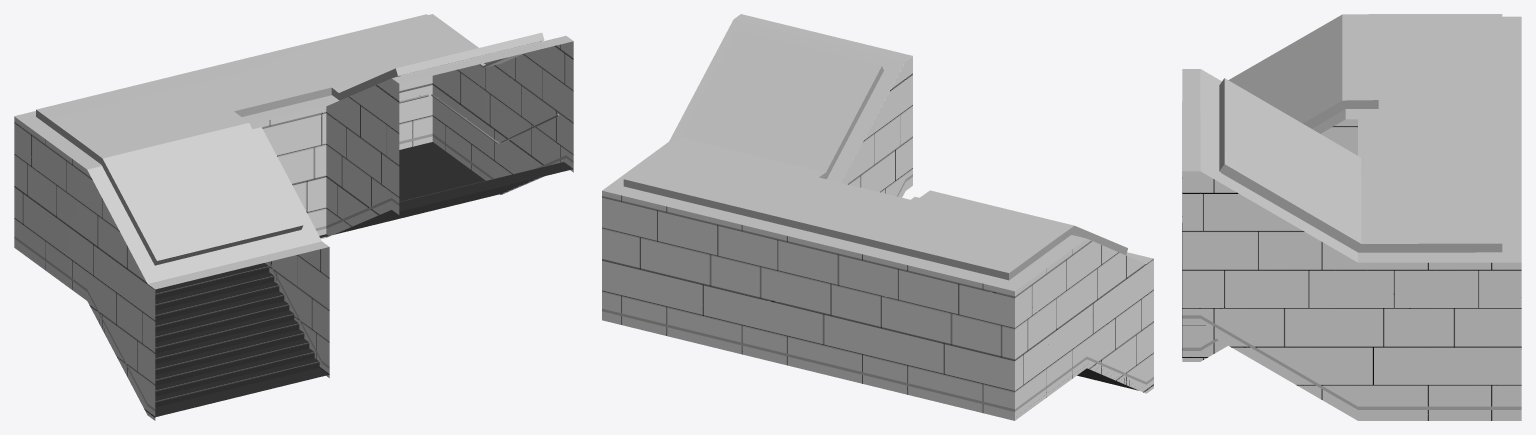
Rendered from Stairs02_500x700cm.FBX.
The picture shows the model from 3 angles, left to right: view 1: azimuth 30°, elevation 25°; view 2: azimuth 150°, elevation 25°; view 3: azimuth 270°, elevation 25°; orthographic projection. The views are drawn at different scales.
Visible parts, largest first — view 1: Walls, Ceiling, Stairs; view 2: Walls, Ceiling; view 3: Ceiling, Walls.
Boxes of the visible parts, bbox=[...] form: Walls: bbox=[14, 41, 573, 420]; Ceiling: bbox=[14, 14, 573, 289]; Stairs: bbox=[99, 142, 573, 417]; Walls: bbox=[602, 56, 1153, 420]; Ceiling: bbox=[602, 14, 1153, 291]; Ceiling: bbox=[1182, 14, 1521, 262]; Walls: bbox=[1182, 119, 1521, 420].
Bounding box in the file's own units: 1200 × 760 × 701.
